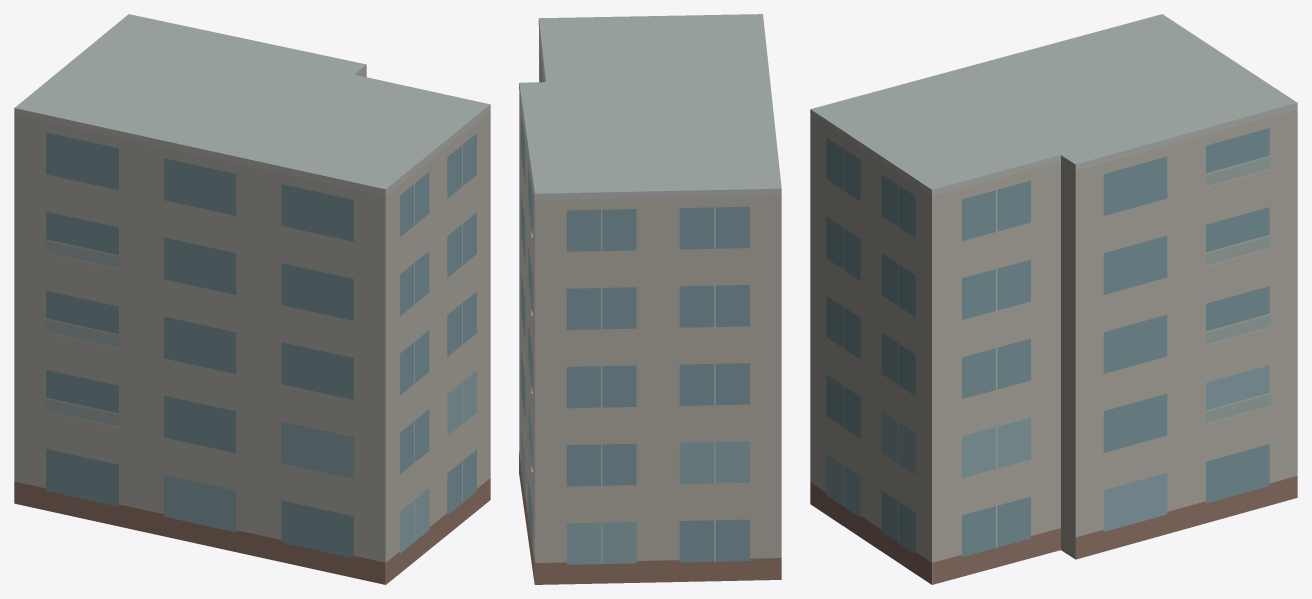
File: survey-upis-32763256.glb
3 renders of one model, left to right at view 1: azimuth 30°, elevation 25°; view 2: azimuth 150°, elevation 25°; view 3: azimuth 270°, elevation 25°, orthographic.
Visible parts, largest first — view 1: survey-upis-32763256.tmp; view 2: survey-upis-32763256.tmp; view 3: survey-upis-32763256.tmp.
Boxes of the visible parts, x1=… form: survey-upis-32763256.tmp: x1=14, y1=14, x2=490, y2=584; survey-upis-32763256.tmp: x1=519, y1=14, x2=781, y2=584; survey-upis-32763256.tmp: x1=810, y1=14, x2=1297, y2=584.
Bounding box in the file's own units: 14.04 × 14.7 × 16.44.
